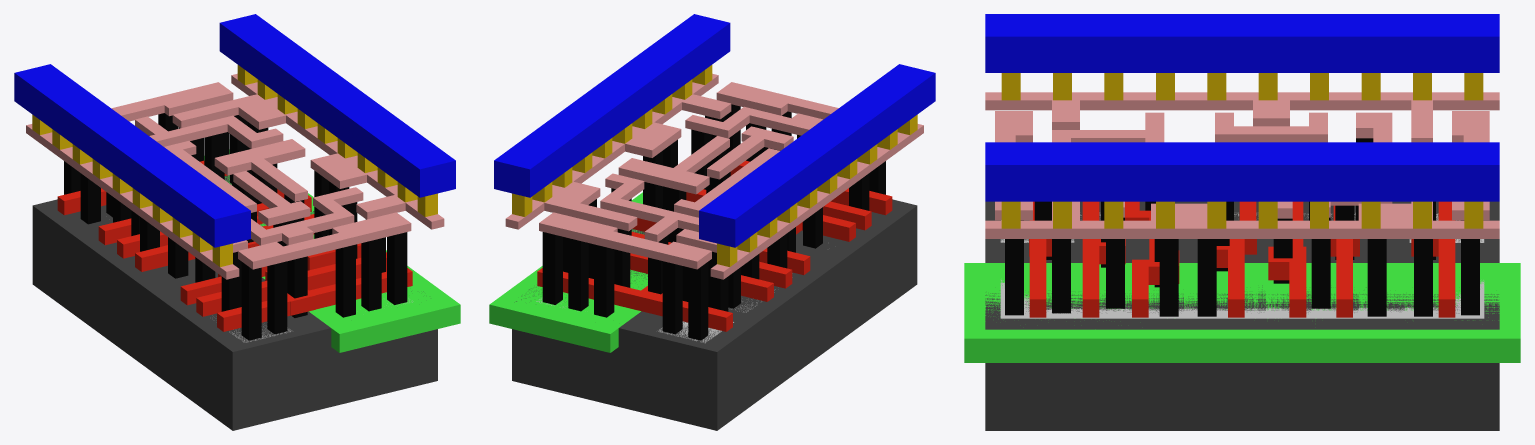
File: sky130_fd_sc_hd__ha_1.obj
3 views of the same model, side by side, from view 1: azimuth 30°, elevation 25°; view 2: azimuth 150°, elevation 25°; view 3: azimuth 270°, elevation 25° (orthographic). The views are drawn at different scales.
Visible parts, largest first — view 1: subs, metal1, li, licon, poly, nwell, mcon; view 2: subs, metal1, li, licon, poly, nwell, mcon; view 3: metal1, subs, nwell, li, licon, poly, mcon, tap.
Boxes of the visible parts, left/top/right/bottom form: subs: left=32, top=175, right=437, bottom=430; metal1: left=14, top=14, right=455, bottom=247; li: left=26, top=73, right=444, bottom=279; licon: left=64, top=113, right=407, bottom=340; poly: left=57, top=160, right=412, bottom=331; nwell: left=204, top=149, right=460, bottom=352; mcon: left=32, top=65, right=437, bottom=266; subs: left=512, top=199, right=917, bottom=430; metal1: left=494, top=14, right=935, bottom=247; li: left=505, top=73, right=923, bottom=279; licon: left=542, top=104, right=885, bottom=340; poly: left=537, top=160, right=892, bottom=331; nwell: left=489, top=192, right=647, bottom=352; mcon: left=512, top=65, right=917, bottom=266; metal1: left=985, top=14, right=1499, bottom=201; subs: left=985, top=201, right=1499, bottom=430; nwell: left=964, top=263, right=1520, bottom=362; li: left=985, top=92, right=1499, bottom=238; licon: left=1005, top=138, right=1479, bottom=316; poly: left=1029, top=201, right=1455, bottom=317; mcon: left=1001, top=73, right=1483, bottom=228; tap: left=1000, top=280, right=1484, bottom=318.
Bounding box in the file's own units: 3.2 × 2.74 × 4.98.
